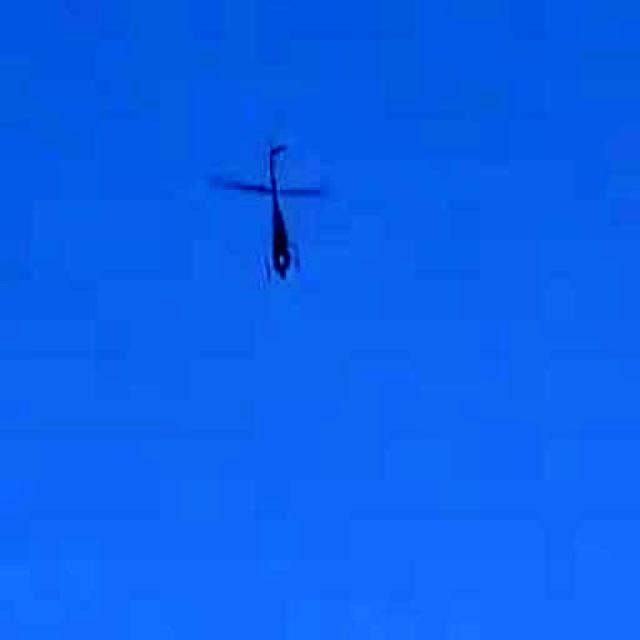drone: (205, 130, 341, 298)
